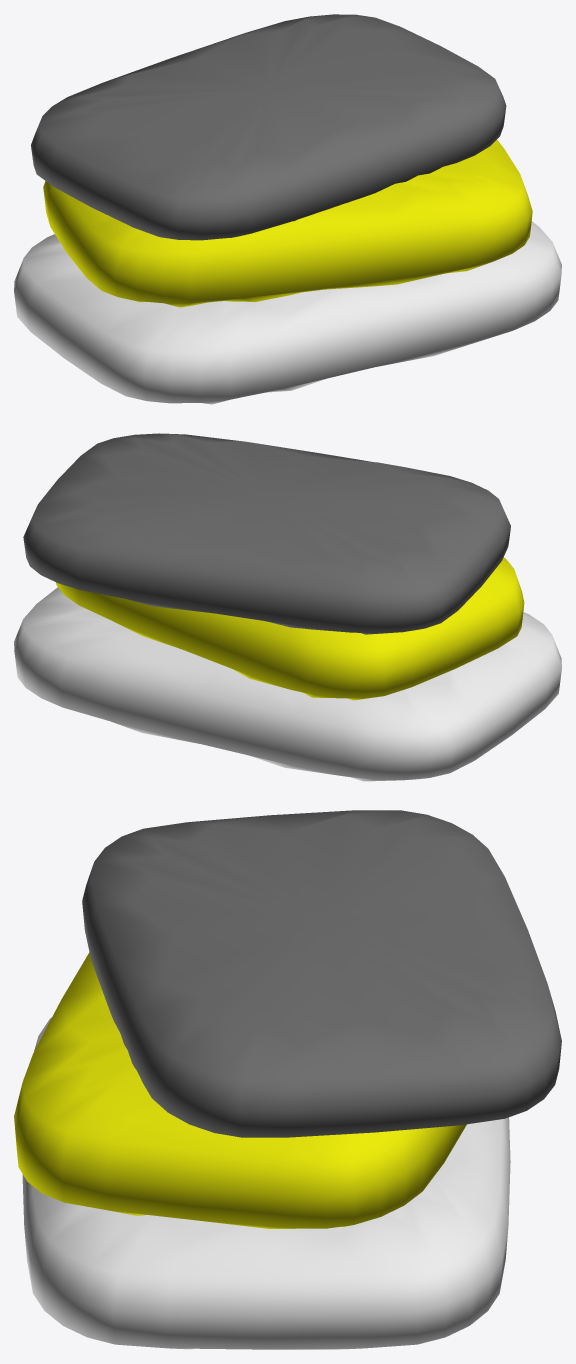
The model's file is Laundry_Clothes_2.fbx.
3 views of the same model, one above another, from view 1: azimuth 30°, elevation 25°; view 2: azimuth 150°, elevation 25°; view 3: azimuth 270°, elevation 25° (orthographic). The views are drawn at different scales.
Parts seen in each view (by area): view 1: Laundry_Clothes_2; view 2: Laundry_Clothes_2; view 3: Laundry_Clothes_2.
Part boxes in pixels (x1,y1,x2,y2): Laundry_Clothes_2: [14, 14, 561, 404]; Laundry_Clothes_2: [14, 433, 561, 781]; Laundry_Clothes_2: [14, 810, 561, 1349].
Bounding box in the file's own units: 80.49 × 38.55 × 60.66.
